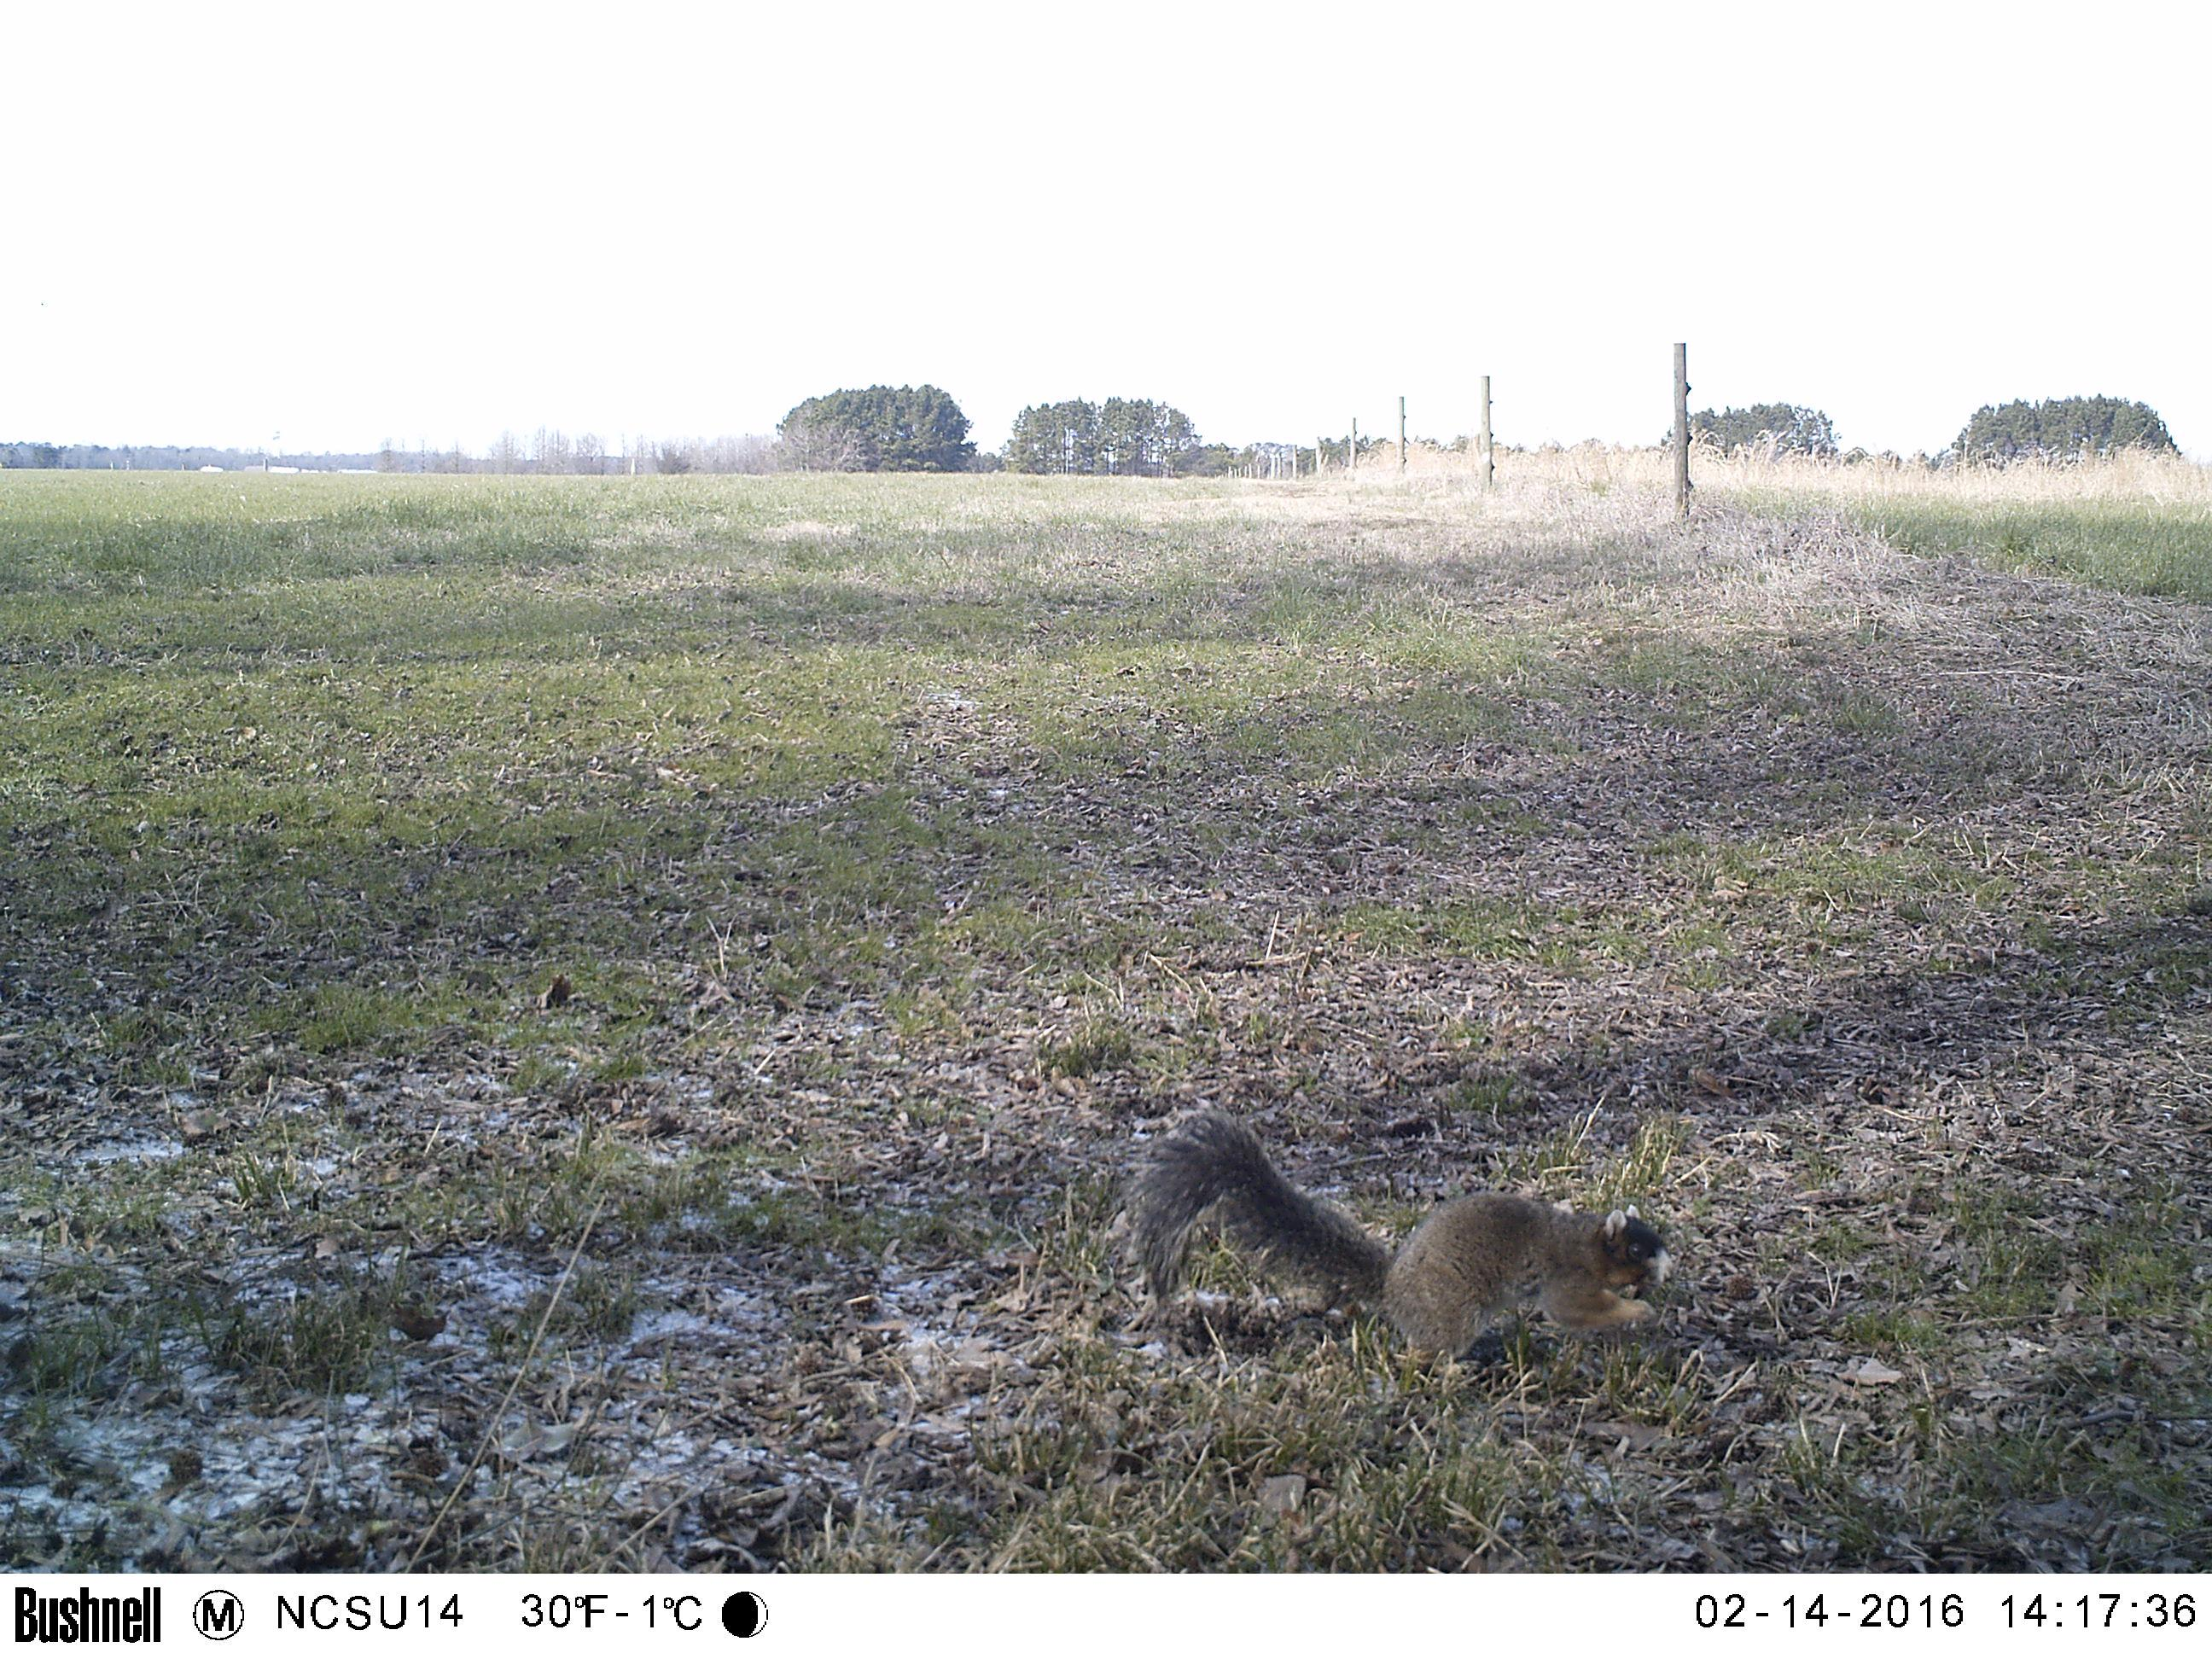Animal: (1130, 1114, 1676, 1377)
